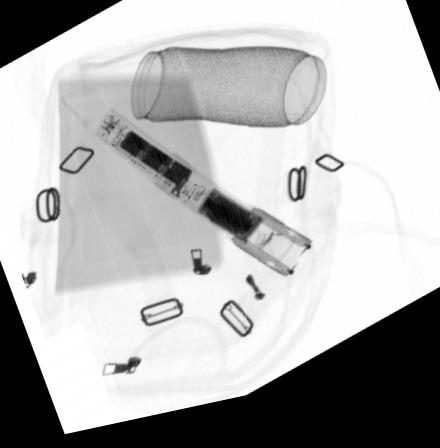Baton: (91, 109, 313, 290)
